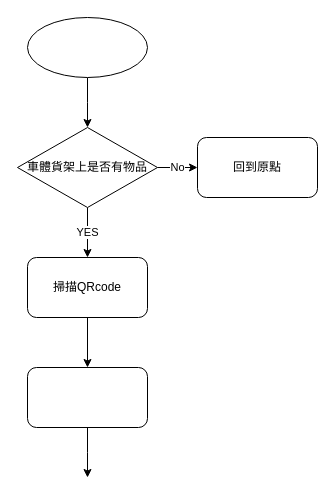
The diagram is 335 pixels wide and 503 high, and some of its shapes have lost their labels. The centre of each missing label's shape, as x and y in pixels:
"START" goes at point (87, 47).
"將物品帶至儲存庫" goes at point (87, 397).
